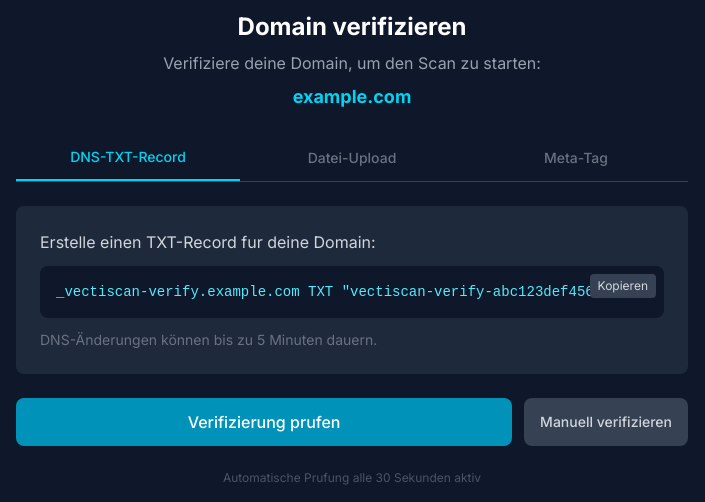
VerifyPage › should have manual verify button
This screenshot has width=705, height=502.
Click the button with test id "manual-verify-button": click(606, 422) [524, 398, 688, 446]
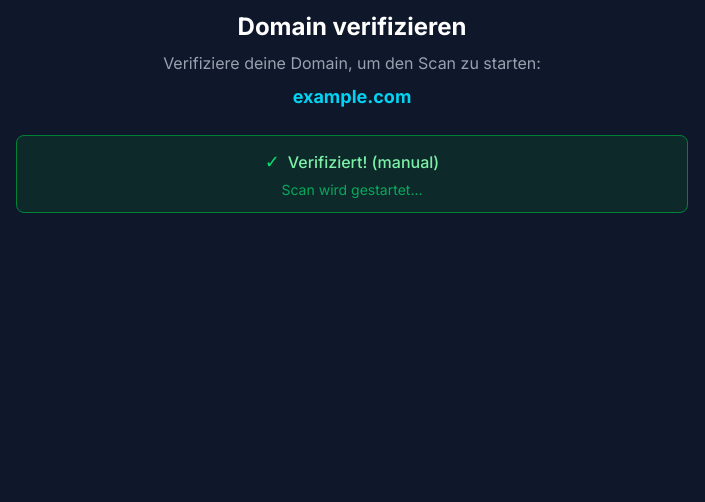
Now the element with test id "verified-banner" is shown, box [16, 135, 688, 213]
